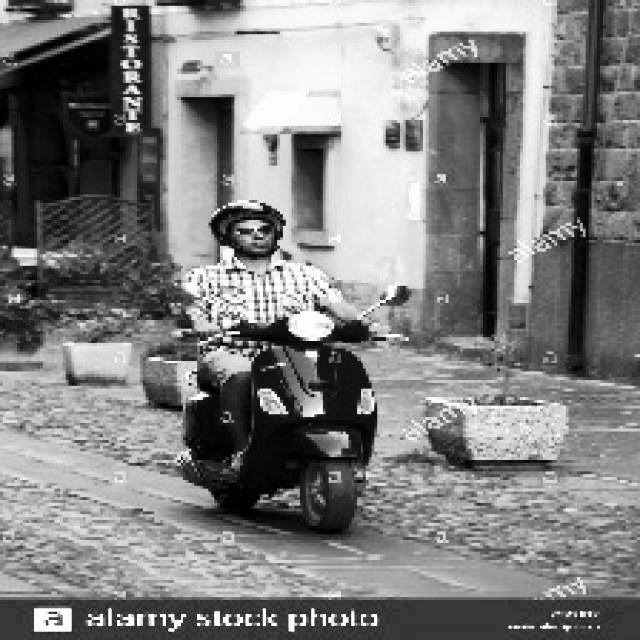Bike: (171, 324, 388, 522)
